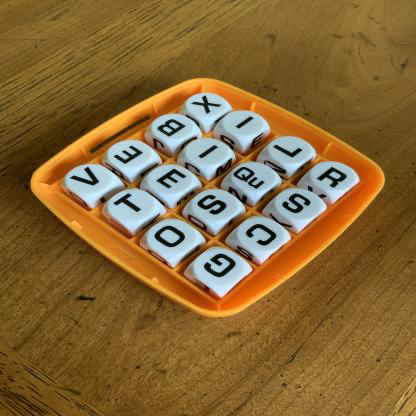b: (152, 116, 195, 143)
c: (238, 218, 286, 254)
e: (148, 166, 194, 197), (108, 142, 152, 169)
g: (194, 251, 246, 288)
i: (186, 139, 233, 168), (224, 112, 266, 138)
l: (269, 137, 313, 166)
o: (149, 221, 198, 258)
qu: (233, 164, 276, 194)
r: (312, 164, 358, 193)
s: (277, 190, 323, 222), (194, 191, 240, 222)
t: (109, 191, 155, 224)
v: (66, 165, 113, 196)
x: (187, 94, 228, 119)
